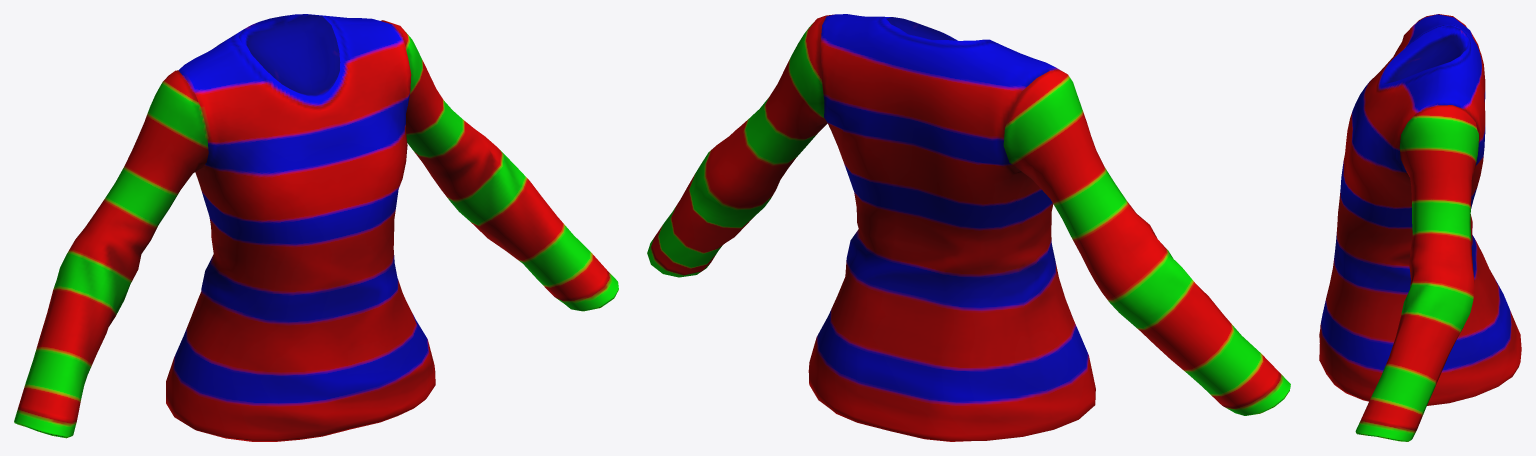
Rendered from Top_StripesSweater.obj.
3 views of the same model, side by side, from view 1: azimuth 30°, elevation 25°; view 2: azimuth 150°, elevation 25°; view 3: azimuth 270°, elevation 25° (orthographic). The views are drawn at different scales.
Parts seen in each view (by area): view 1: Top_StripesSweater_0; view 2: Top_StripesSweater_0; view 3: Top_StripesSweater_0.
Boxes of the visible parts, bbox=[...] form: Top_StripesSweater_0: bbox=[14, 14, 618, 441]; Top_StripesSweater_0: bbox=[647, 14, 1290, 441]; Top_StripesSweater_0: bbox=[1319, 14, 1521, 441].
Size of the model in its own units: 0.941 by 0.5349 by 0.3114.
1 material, 1 textured.
